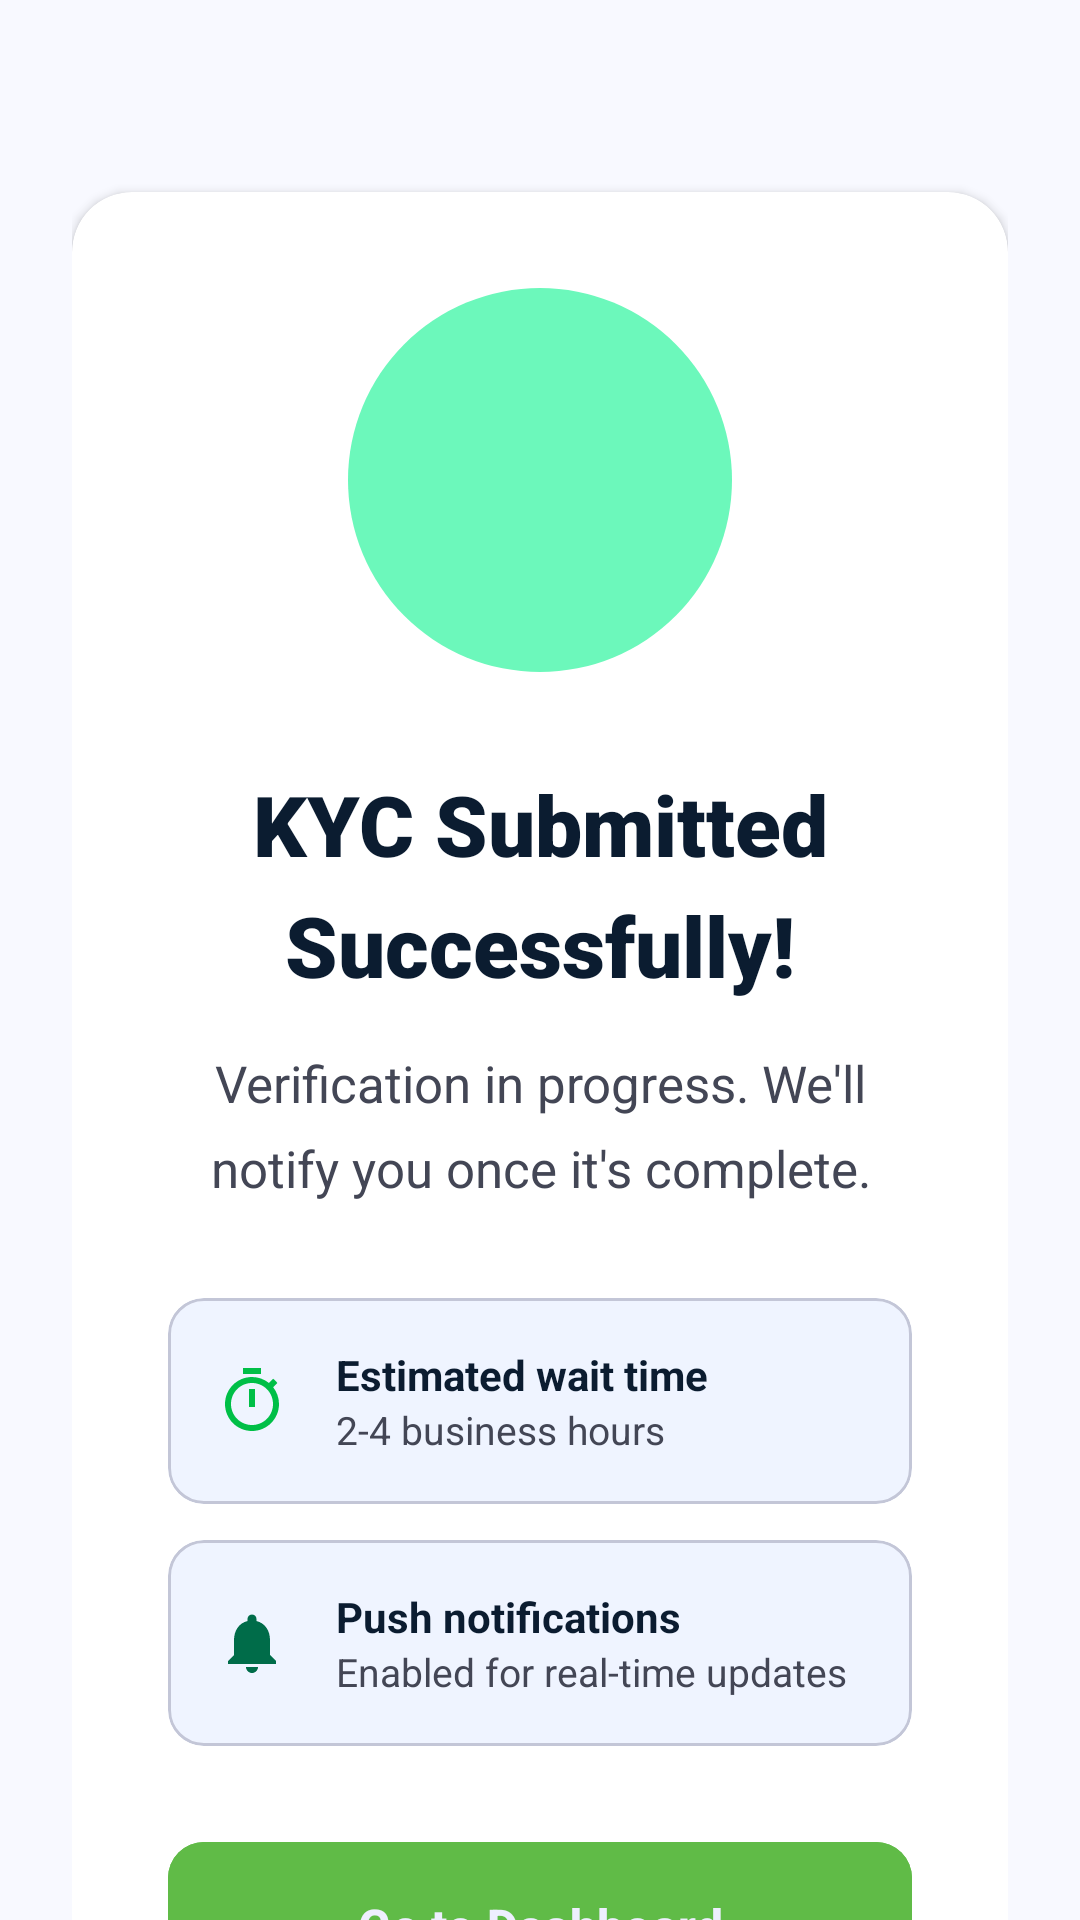

Named icons in this screenshot (1080 × 1920) and their bounding boxes, box=[x1, y1, x2, y2]:
timer: box=[225, 1368, 279, 1431]
